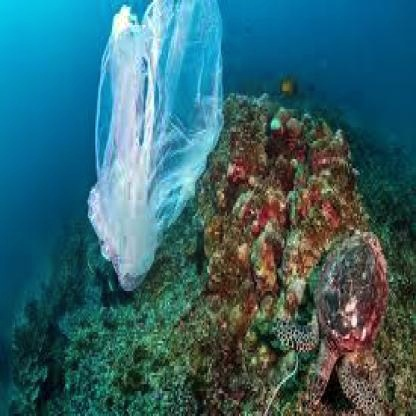pbag: (80, 2, 224, 296)
